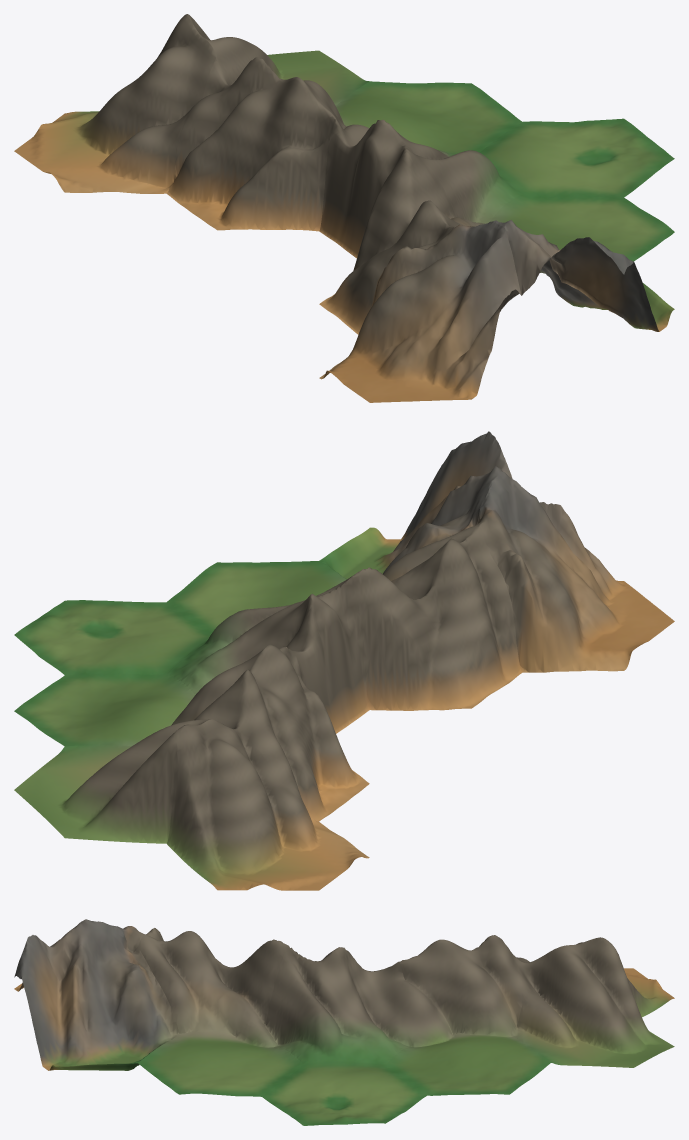
File: cordilheira.glb
3 views of the same model, one above another, from view 1: azimuth 30°, elevation 25°; view 2: azimuth 150°, elevation 25°; view 3: azimuth 270°, elevation 25° (orthographic). The views are drawn at different scales.
Visible parts, largest first — view 1: X3, MN2_01, Serra_2_-2, X6, F_E, X7, F_N, MW_01, F_S, Serra_3_-2; view 2: X7, Serra_2_-2, MN2_01, X3, Serra_3_-2, X6, F_E, F_N, MW_01, F_S; view 3: MW_01, X6, Serra_3_-2, X7, X3, F_N, F_S, F_E, Serra_2_-2, MN2_01.
Part boxes in pixels (left/top/right/bottom): X3: left=166, top=56, right=354, bottom=231; MN2_01: left=319, top=221, right=522, bottom=402; Serra_2_-2: left=14, top=15, right=217, bottom=193; X6: left=319, top=118, right=521, bottom=258; F_E: left=480, top=118, right=674, bottom=197; X7: left=319, top=147, right=477, bottom=334; F_N: left=336, top=81, right=521, bottom=154; MW_01: left=490, top=220, right=674, bottom=331; F_S: left=475, top=194, right=674, bottom=261; Serra_3_-2: left=184, top=14, right=369, bottom=105; X7: left=347, top=525, right=522, bottom=710; Serra_2_-2: left=166, top=719, right=369, bottom=890; MN2_01: left=475, top=472, right=674, bottom=672; X3: left=173, top=644, right=369, bottom=821; Serra_3_-2: left=14, top=719, right=210, bottom=843; X6: left=166, top=577, right=369, bottom=733; F_E: left=14, top=600, right=210, bottom=675; F_N: left=14, top=673, right=194, bottom=746; MW_01: left=319, top=431, right=512, bottom=579; F_S: left=167, top=561, right=345, bottom=633; MW_01: left=14, top=919, right=178, bottom=1070; X6: left=262, top=946, right=426, bottom=1064; Serra_3_-2: left=510, top=937, right=674, bottom=1067; X7: left=138, top=931, right=288, bottom=1036; X3: left=399, top=935, right=550, bottom=1034; F_N: left=386, top=1012, right=550, bottom=1095; F_S: left=138, top=1024, right=302, bottom=1096; F_E: left=262, top=1061, right=426, bottom=1125; Serra_2_-2: left=550, top=940, right=674, bottom=1017; MN2_01: left=14, top=925, right=163, bottom=991.
Size of the model in its own units: 12990 by 3943 by 20000.
